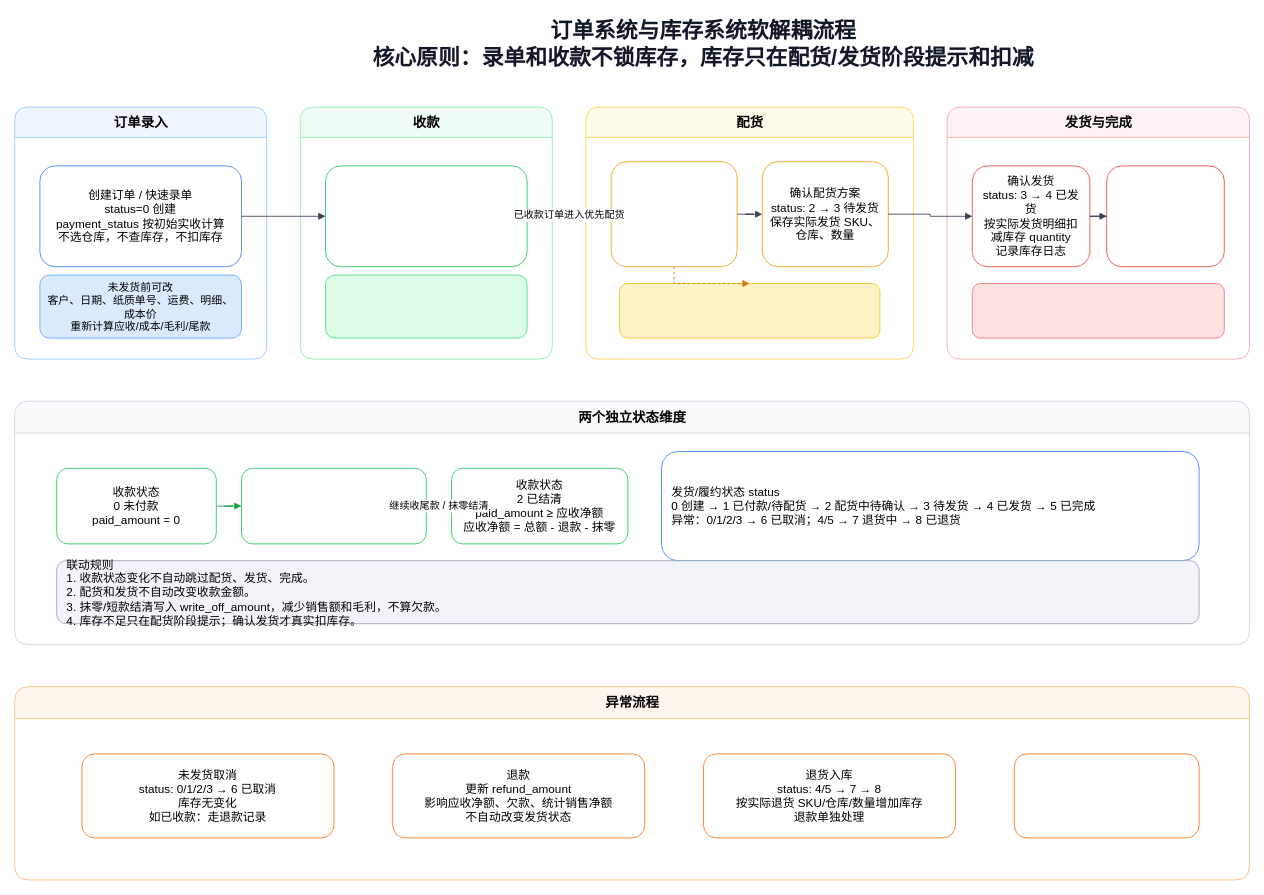
The diagram is 1264 pixels wide and 895 high, and some of its shapes have lost their labels. The centre of each missing label's shape, as x and y in pixels:
"创建配货方案 status: 1 → 2 配货中待确认 查看当前库存，仅提示不足 可记录替换 SKU / 减配 / 备注" belongs at pixel 673 214.
"历史兼容 inventory_global_reserve / global_reserved_qty 暂不删除 第一版生产订单流程不依赖硬预留" belongs at pixel 1106 795.
"发货后限制 不能改商品明细和金额结构 只允许追加收款、备注、退货/退款流程" belongs at pixel 1097 310.
"完成订单 status: 4 → 5 已完成 收款状态不自动变化" belongs at pixel 1165 216.
"库存不足处理 只提示，不阻断配货方案保存 线下确认后可换款、减配、补发、退款" belongs at pixel 749 310.
"收款状态 1 部分收款 0 < paid_amount < 应收净额" belongs at pixel 333 505.
"确认收款 / 初始实收 status: 0 → 1 已付款/待配货 payment_status: 0/1/2 不调用 globalReserve，不锁库存" belongs at pixel 426 216.
"追加收款 / 标记结清 status 不变 payment_status 按累计实收和抹零重算 可从部分收款变为已结清" belongs at pixel 426 306.
